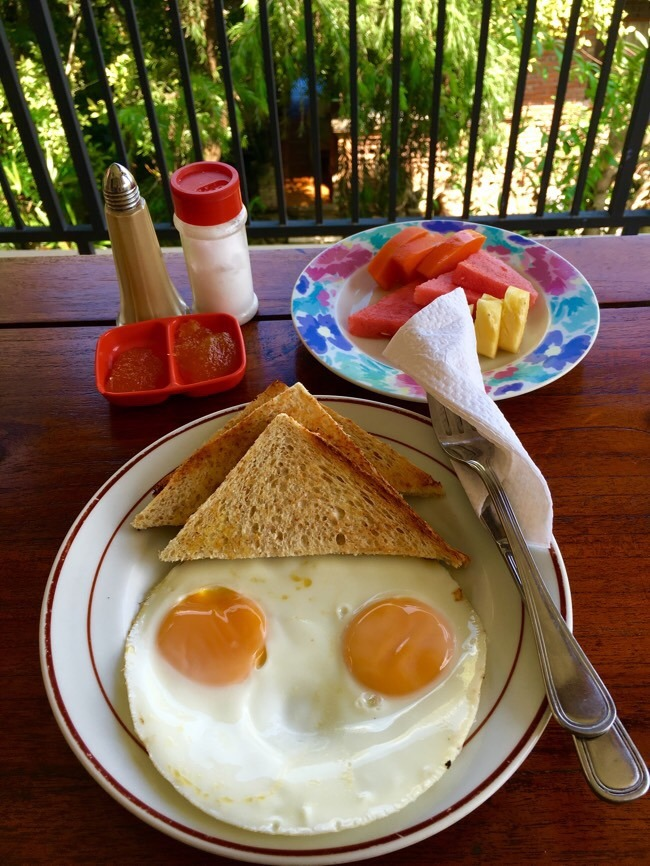fried egg: (306, 563, 468, 815), (119, 565, 290, 803)
slice of bread: (148, 383, 456, 559)
